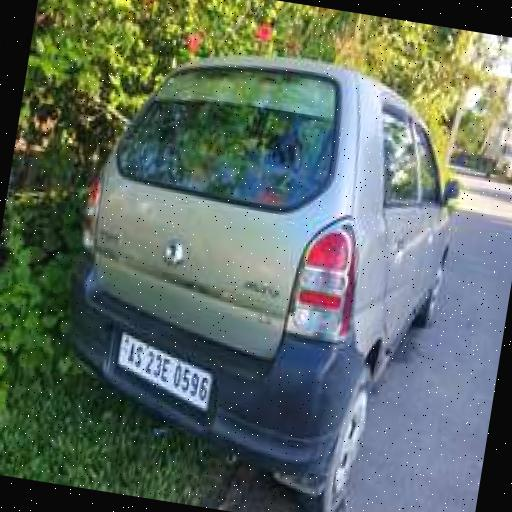license_plate`: (109, 326, 214, 406)
